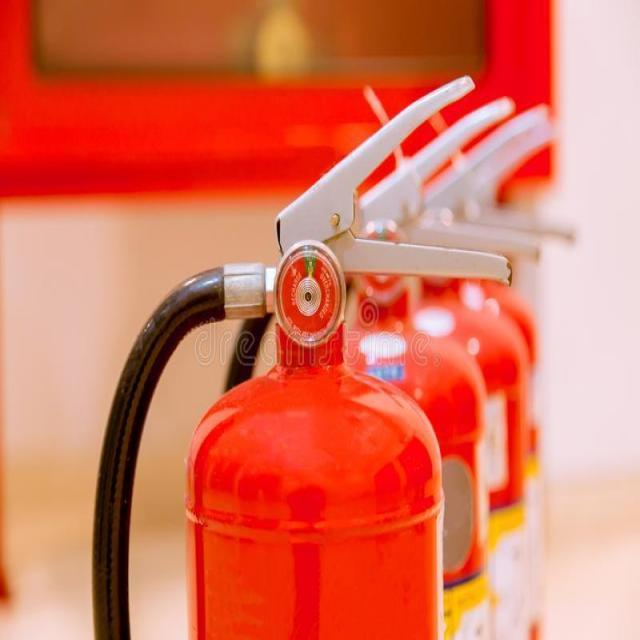fire_extinguisher: (84, 67, 514, 639)
